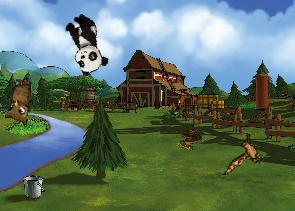eagle: (222, 129, 267, 182)
owl: (2, 77, 32, 125)
panda: (59, 10, 111, 77)
